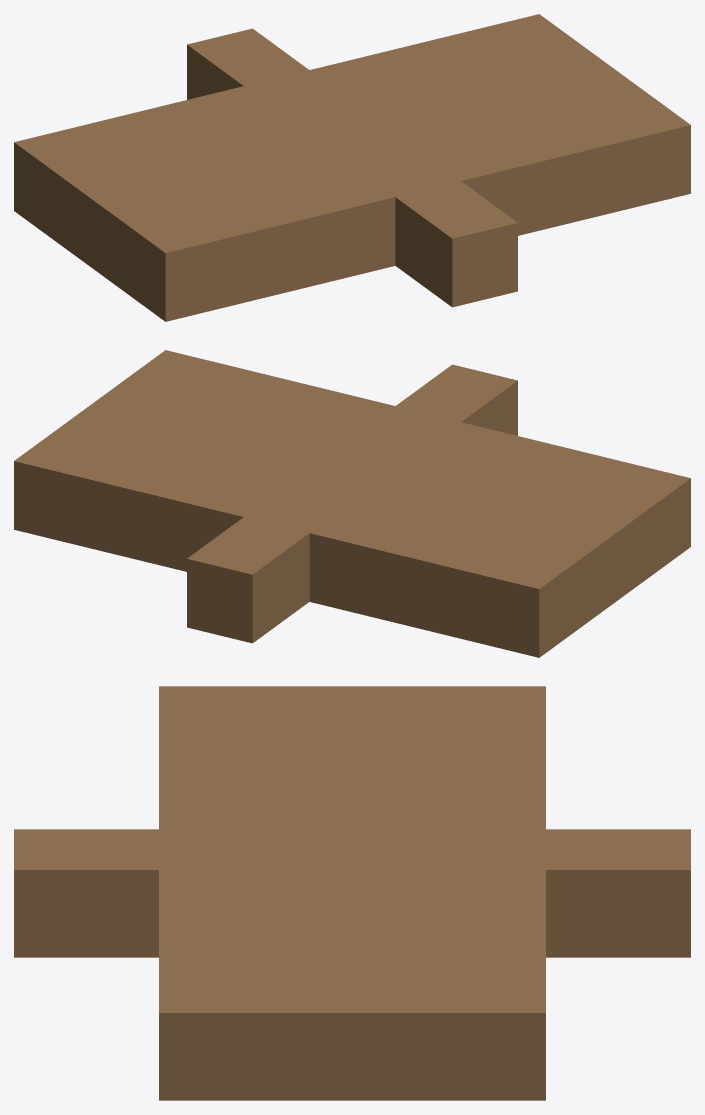
Rendered from [Collider] Cave Room 1.fbx.
The picture shows the model from 3 angles, top to bottom: view 1: azimuth 30°, elevation 25°; view 2: azimuth 150°, elevation 25°; view 3: azimuth 270°, elevation 25°; orthographic projection. The views are drawn at different scales.
Parts seen in each view (by area): view 1: [Collider] Cave Room 1; view 2: [Collider] Cave Room 1; view 3: [Collider] Cave Room 1.
Part boxes in pixels (box(x1,y1,x2,y2)): [Collider] Cave Room 1: box(14, 14, 690, 321); [Collider] Cave Room 1: box(14, 350, 690, 657); [Collider] Cave Room 1: box(14, 686, 690, 1100).
Bounding box in the file's own units: 64 × 8 × 56.
